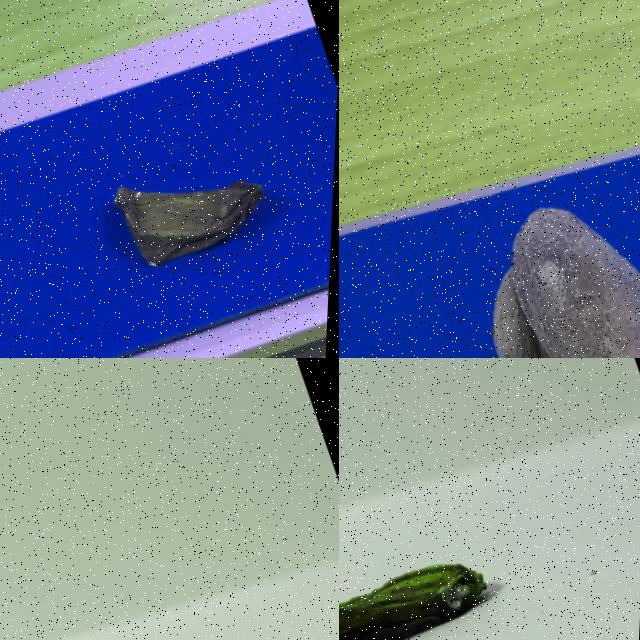Agglomerated_cocoabeans: (360, 87, 639, 357)
Flat_cocoabeans: (28, 80, 338, 329), (339, 434, 600, 639), (0, 560, 323, 639)
